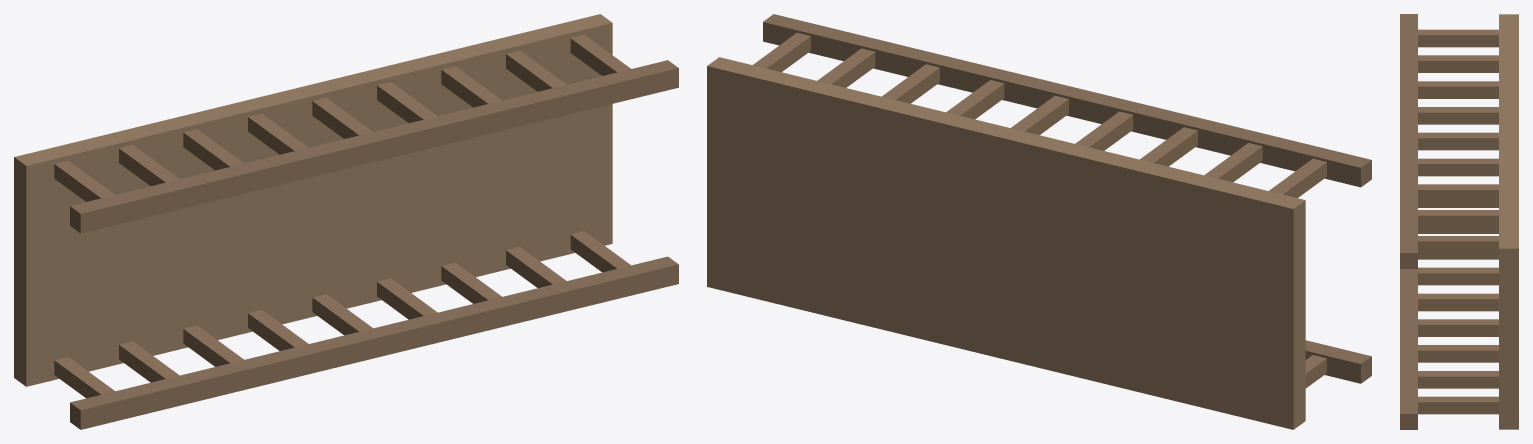
The model's file is wooden_river_bridge.glb.
3 renders of one model, left to right at view 1: azimuth 30°, elevation 25°; view 2: azimuth 150°, elevation 25°; view 3: azimuth 270°, elevation 25°, orthographic. The views are drawn at different scales.
Visible parts, largest first — view 1: deck, handrail0.8, handrail-0.8, rail-0.8_2, rail-0.8_4, rail-0.8_6, rail-0.8_8, rail0.8_2, rail0.8_6, rail-0.8_0, rail0.8_0, rail0.8_4 (+9 smaller); view 2: deck, handrail0.8, handrail-0.8, rail0.8_1, rail0.8_3, rail0.8_5, rail0.8_7, rail0.8_0, rail0.8_8, rail0.8_2, rail0.8_6, rail0.8_4; view 3: deck, handrail0.8, handrail-0.8, rail-0.8_3, rail-0.8_4, rail-0.8_8, rail0.8_0, rail0.8_4, rail0.8_5, rail-0.8_5, rail-0.8_6, rail-0.8_7 (+9 smaller).
Part boxes in pixels (x1=…): deck: x1=14, y1=14, x2=612, y2=386; handrail0.8: x1=70, y1=60, x2=678, y2=233; handrail-0.8: x1=70, y1=256, x2=678, y2=429; rail-0.8_2: x1=183, y1=325, x2=243, y2=366; rail-0.8_4: x1=312, y1=294, x2=372, y2=335; rail-0.8_6: x1=441, y1=262, x2=501, y2=303; rail-0.8_8: x1=570, y1=231, x2=630, y2=272; rail0.8_2: x1=183, y1=129, x2=243, y2=170; rail0.8_6: x1=441, y1=66, x2=501, y2=107; rail-0.8_0: x1=54, y1=357, x2=114, y2=398; rail0.8_0: x1=54, y1=160, x2=114, y2=201; rail0.8_4: x1=312, y1=97, x2=372, y2=138; deck: x1=707, y1=57, x2=1305, y2=429; handrail0.8: x1=763, y1=14, x2=1371, y2=187; handrail-0.8: x1=1305, y1=340, x2=1371, y2=383; rail0.8_1: x1=1204, y1=143, x2=1262, y2=182; rail0.8_3: x1=1075, y1=111, x2=1133, y2=150; rail0.8_5: x1=946, y1=80, x2=1004, y2=119; rail0.8_7: x1=817, y1=48, x2=875, y2=87; rail0.8_0: x1=1269, y1=158, x2=1326, y2=197; rail0.8_8: x1=753, y1=32, x2=810, y2=72; rail0.8_2: x1=1140, y1=127, x2=1197, y2=166; rail0.8_6: x1=882, y1=64, x2=939, y2=103; rail0.8_4: x1=1011, y1=95, x2=1068, y2=134; deck: x1=1499, y1=14, x2=1518, y2=429; handrail0.8: x1=1400, y1=14, x2=1417, y2=268; handrail-0.8: x1=1400, y1=269, x2=1417, y2=429; rail-0.8_3: x1=1418, y1=267, x2=1498, y2=285; rail-0.8_4: x1=1418, y1=293, x2=1498, y2=311; rail-0.8_8: x1=1418, y1=396, x2=1498, y2=414; rail0.8_0: x1=1418, y1=29, x2=1498, y2=47; rail0.8_4: x1=1418, y1=132, x2=1498, y2=150; rail0.8_5: x1=1418, y1=158, x2=1498, y2=176; rail-0.8_5: x1=1418, y1=319, x2=1498, y2=336; rail-0.8_6: x1=1418, y1=345, x2=1498, y2=362; rail-0.8_7: x1=1418, y1=371, x2=1498, y2=388.
Bounding box in the file's own units: 5.1 × 1.8 × 1.07.
